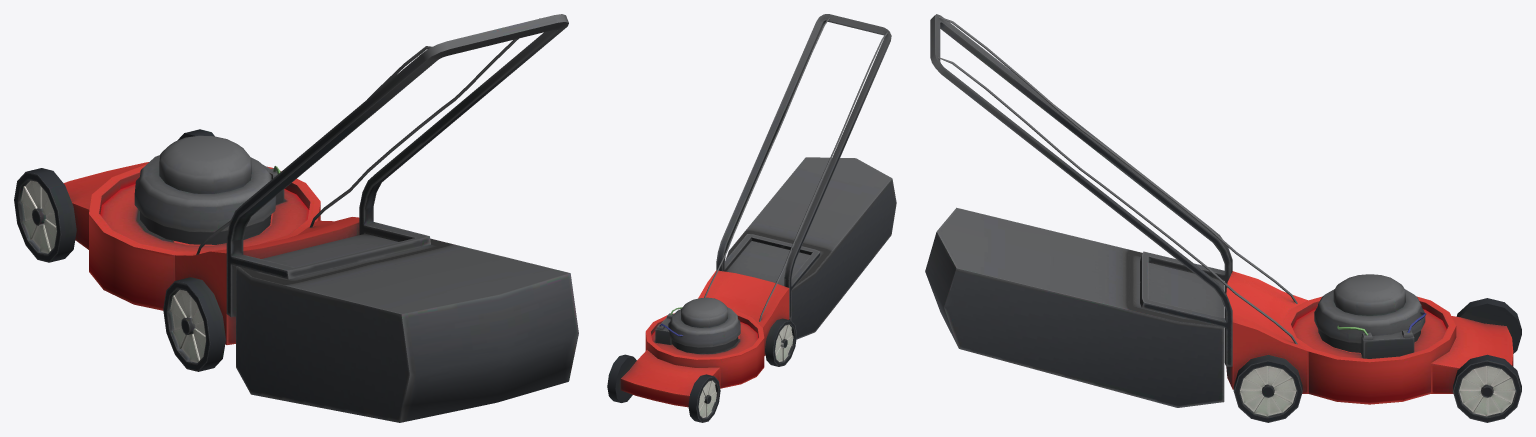
3 views of the same model, side by side, from view 1: azimuth 30°, elevation 25°; view 2: azimuth 150°, elevation 25°; view 3: azimuth 270°, elevation 25° (orthographic). The views are drawn at different scales.
Parts seen in each view (by area): view 1: Bag, HandleBar, Engine, MainBody, WheelBL, WheelFL, BackBody, FrontBody; view 2: Bag, HandleBar, MainBody, Engine, BackBody, FrontBody, WheelFL, WheelBL, WheelFR; view 3: Bag, HandleBar, MainBody, Engine, BackBody, WheelBR, WheelFR, FrontBody, WheelFL.
Boxes of the visible parts, x1=… form: Bag: x1=236, y1=233, x2=578, y2=422; HandleBar: x1=196, y1=14, x2=568, y2=317; Engine: x1=134, y1=135, x2=284, y2=244; MainBody: x1=89, y1=164, x2=320, y2=310; WheelBL: x1=163, y1=277, x2=225, y2=371; WheelFL: x1=14, y1=168, x2=76, y2=262; BackBody: x1=175, y1=217, x2=359, y2=344; FrontBody: x1=63, y1=162, x2=148, y2=249; Bag: x1=725, y1=157, x2=896, y2=339; HandleBar: x1=704, y1=14, x2=891, y2=321; MainBody: x1=645, y1=309, x2=764, y2=388; Engine: x1=655, y1=297, x2=740, y2=353; BackBody: x1=698, y1=270, x2=789, y2=355; FrontBody: x1=620, y1=350, x2=720, y2=407; WheelFL: x1=688, y1=374, x2=720, y2=422; WheelBL: x1=765, y1=318, x2=796, y2=366; WheelFR: x1=607, y1=354, x2=636, y2=402; Bag: x1=925, y1=207, x2=1224, y2=407; HandleBar: x1=930, y1=14, x2=1297, y2=366; MainBody: x1=1283, y1=296, x2=1456, y2=404; Engine: x1=1314, y1=274, x2=1426, y2=358; BackBody: x1=1226, y1=271, x2=1308, y2=393; WheelBR: x1=1233, y1=354, x2=1302, y2=422; WheelFR: x1=1453, y1=354, x2=1521, y2=422; FrontBody: x1=1431, y1=316, x2=1513, y2=393; WheelFL: x1=1456, y1=298, x2=1521, y2=353.
Size of the model in its own units: 134 by 308 by 467.
1 material, 1 textured.
